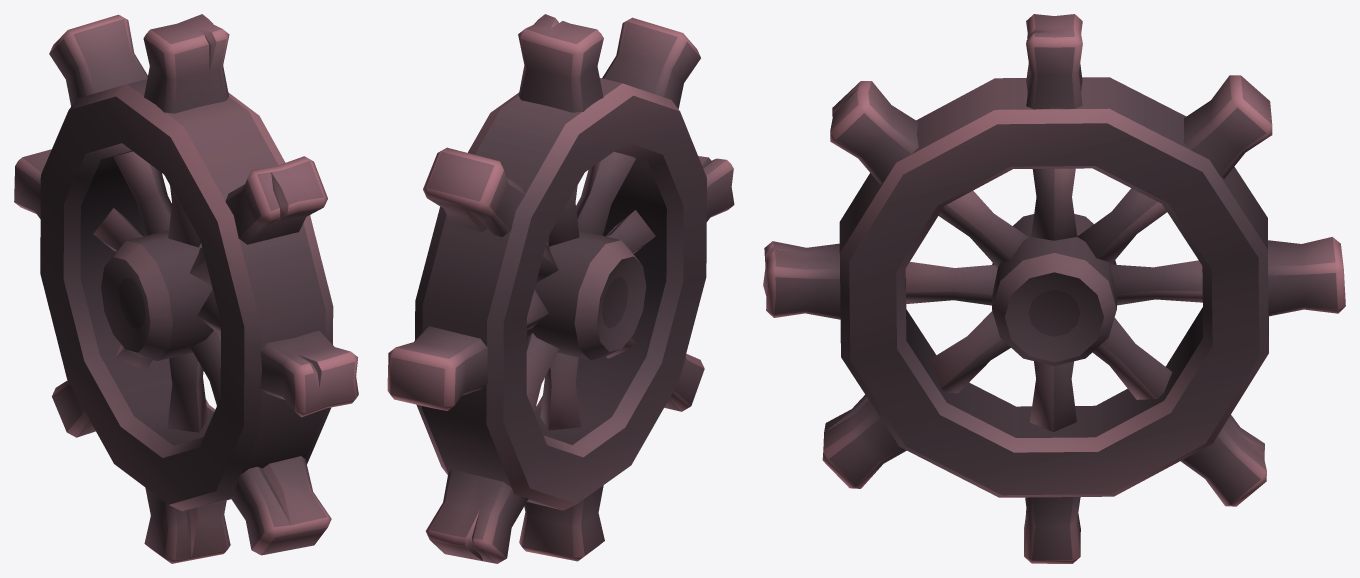
The model's file is undead_gear_big.fbx.
The picture shows the model from 3 angles, left to right: view 1: azimuth 30°, elevation 25°; view 2: azimuth 150°, elevation 25°; view 3: azimuth 270°, elevation 25°; orthographic projection.
Parts seen in each view (by area): view 1: undead_gear_big; view 2: undead_gear_big; view 3: undead_gear_big.
Part boxes in pixels (x1,y1,x2,y2): undead_gear_big: (14,14,358,563); undead_gear_big: (387,14,734,563); undead_gear_big: (763,14,1345,563).
Size of the model in its own units: 1.24 by 5.13 by 5.13.
